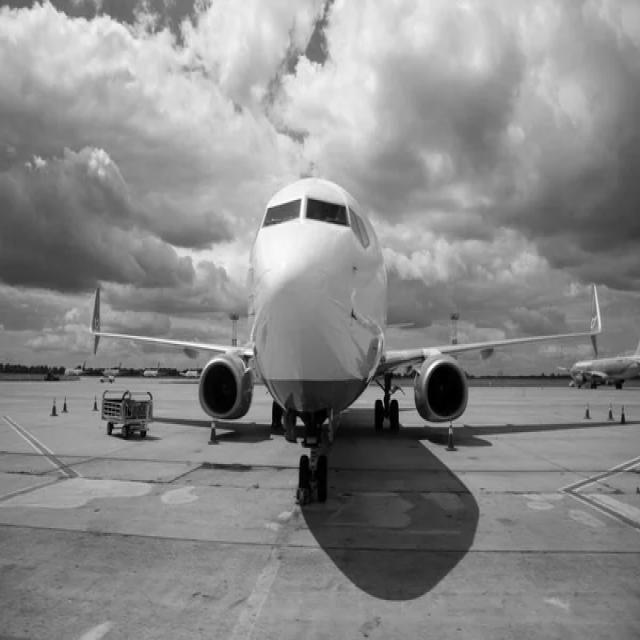Aircraft: (78, 175, 606, 496)
